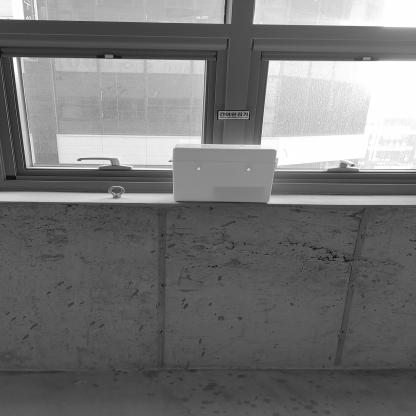DDL: (172, 144, 278, 203)
